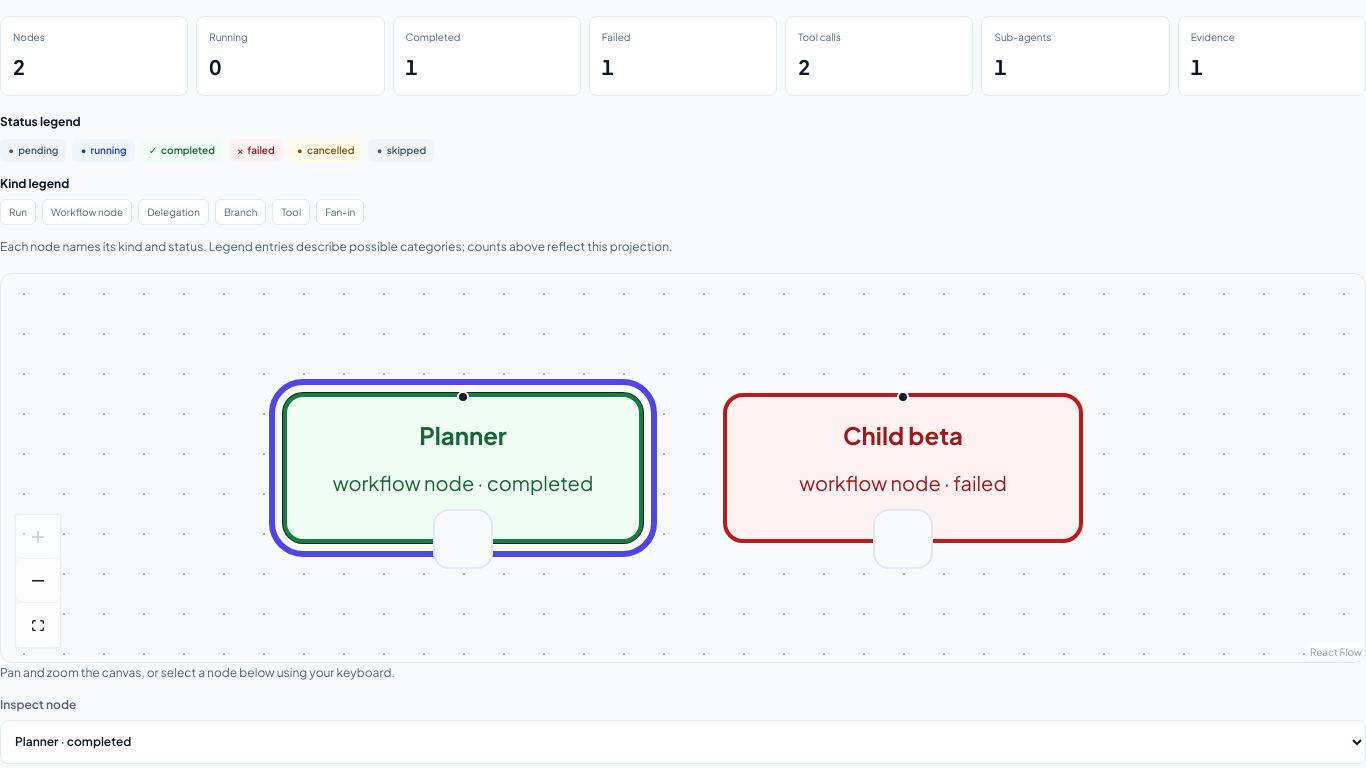
Test: correlates a selected workflow node with only its own redacted context metrics
Select "Child beta · failed" in the dropdown labelled "Inspect node" at (683, 742), box 0,720 -> 1365,764
(page scrolled)
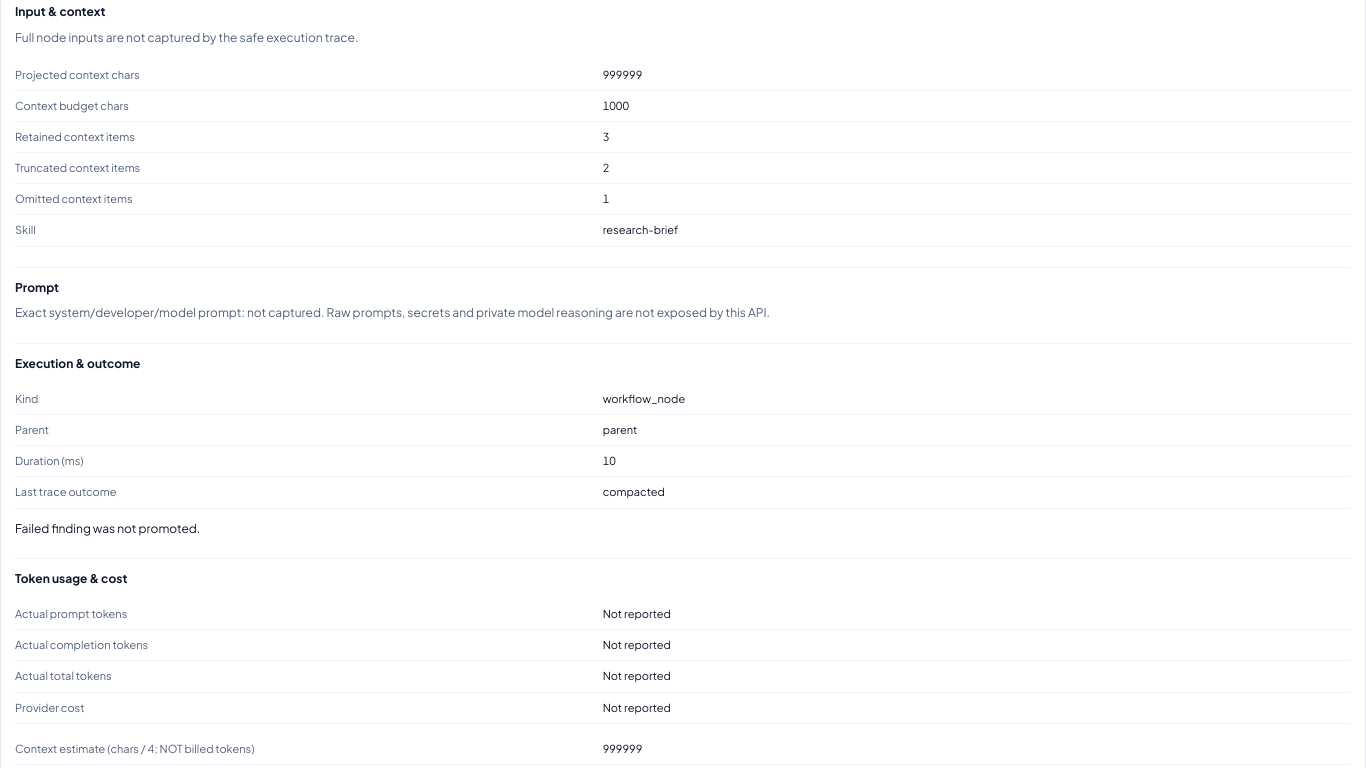
Result: the element named "Node details" shows "999999" at 603,68 -> 642,81
